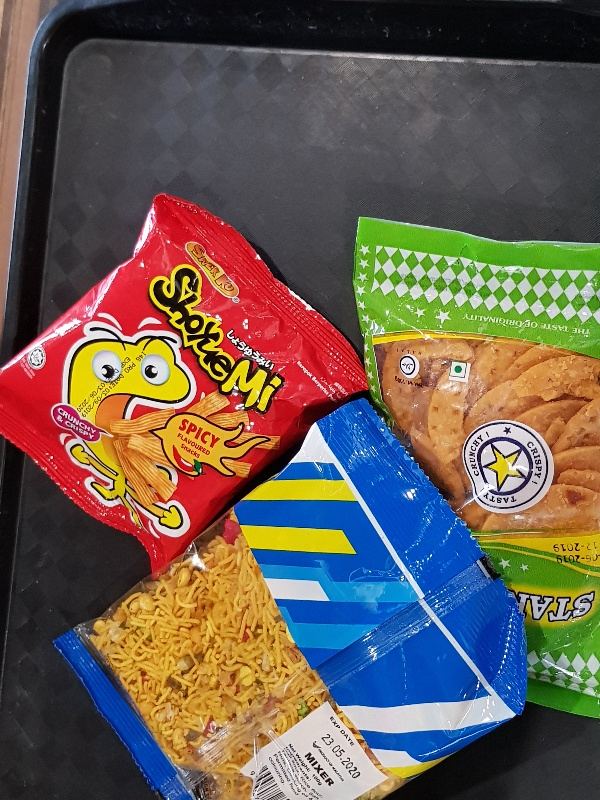ShoyueMi Spicy Flavoured Snacks: (2, 193, 369, 580)
Star Tidbits 'O' Ring: (348, 214, 600, 721)
Star Tidbits Mixer: (50, 395, 529, 800)
